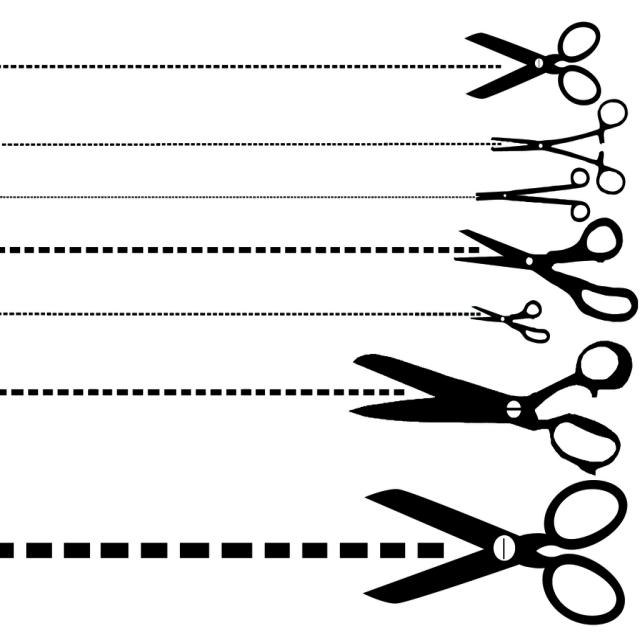scissors: (362, 479, 627, 625), (348, 340, 632, 475), (454, 217, 638, 321), (490, 98, 628, 194), (464, 20, 602, 106), (474, 167, 590, 222), (470, 300, 550, 344)
